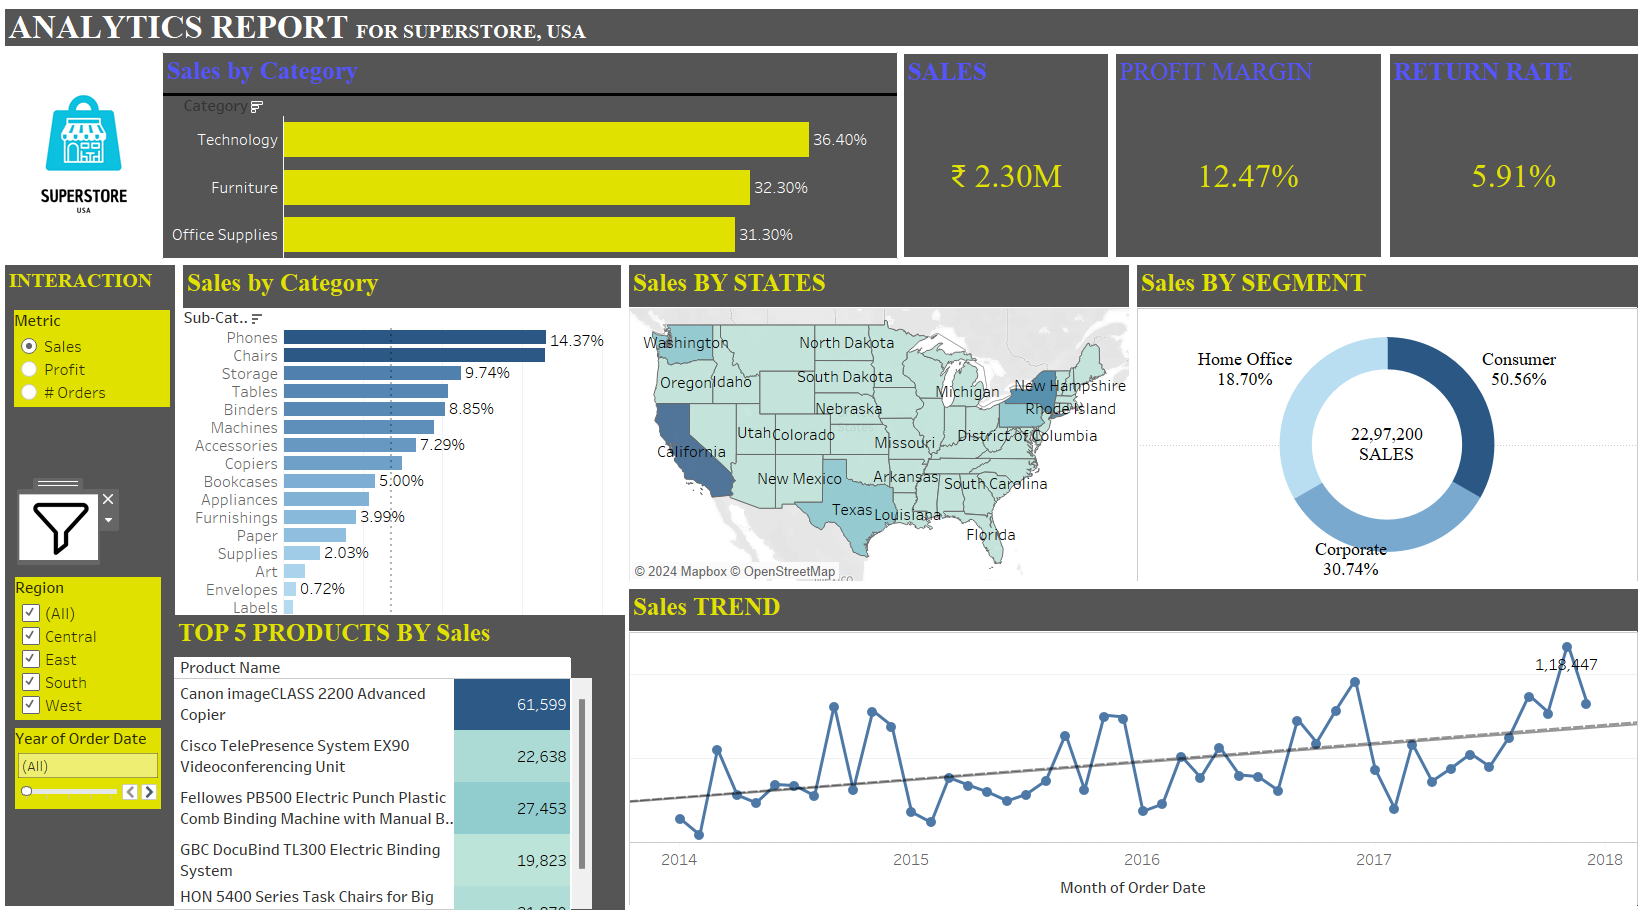

The page's visual inventory and layout, read from the dashboard file:
{"tool":"tableau","page":{"name":"Dashboard 1","canvas":[1000,1000],"units":"permille","ordinal":0},"visuals":[{"type":"title","box":[4.8,8.7,990.3,48.9]},{"type":"image","param":"Image/Screenshot 2024-12-05 122448.png","box":[4.8,57.6,95.9,229]},{"type":"worksheet","title":"SALES BY CATEGORY","mark":"Automatic","rows":["Category"],"cols":["Calculation_617274645138530307"],"box":[100.7,57.6,446.6,229]},{"type":"worksheet","title":"SALES","mark":"Automatic","box":[547.3,57.6,128.3,229]},{"type":"worksheet","title":"PROFIT MARGIN","mark":"Automatic","box":[675.6,57.6,164.9,229]},{"type":"worksheet","title":"RETURN RATE","mark":"Automatic","box":[840.5,57.6,154.7,229]},{"type":"worksheet","title":"INTERACTION","mark":"Automatic","box":[4.8,286.6,107.3,704.8]},{"type":"worksheet","title":"SALES BY SUB-CATEGORY","mark":"Automatic","rows":["Sub-Category"],"cols":["Calculation_617274645138530307"],"box":[112.2,286.6,269.2,409.6]},{"type":"worksheet","title":"SALES BY STATES","mark":"Multipolygon","box":[381.3,286.6,306.9,352.4]},{"type":"worksheet","title":"SALES BY SEGMENT","mark":"Pie","rows":["Calculation_1362057433868435462","Calculation_1362057433868435462"],"box":[688.2,286.6,306.9,352.4]},{"type":"parameter","param":"[Parameters].[Parameter 2]","box":[12.6,339.9,94.1,105.3]},{"type":"dashboard-object","box":[15.6,536.4,48,78.2]},{"type":"filter","title":"SALES","param":"[federated.1v6m5oi1no1wxq0zngc4z0cfc1xt].[none:Region:nk]","box":[10.8,625.4,92.9,164]},{"type":"worksheet","title":"SALES TREND","mark":"Automatic","rows":["Calculation_617274645138530307","Calculation_617274645138530307"],"cols":["Order Date"],"box":[381.3,638.9,613.8,352.4]},{"type":"worksheet","title":"TOP 5 PRODUCTS BY SALES","mark":"Square","rows":["Product Name"],"box":[109.1,671,272.2,320.3]},{"type":"filter","title":"SALES","param":"[federated.1v6m5oi1no1wxq0zngc4z0cfc1xt].[yr:Order Date:ok]","box":[10.8,789.4,92.9,96.6]}]}

Visuals, with their boxes on the dashboard's canvas, which has no fixed pixel size, in thousandths of its width and height (x1, y1, x2, y2). These are canvas units, not pixel positions in the 1650x912 screenshot, which may show the page scaled, cropped or inside an application window:
title: Rect(5, 9, 995, 58)
image: Rect(5, 58, 101, 287)
"SALES BY CATEGORY" worksheet: Rect(101, 58, 547, 287)
"SALES" worksheet: Rect(547, 58, 676, 287)
"PROFIT MARGIN" worksheet: Rect(676, 58, 840, 287)
"RETURN RATE" worksheet: Rect(840, 58, 995, 287)
"INTERACTION" worksheet: Rect(5, 287, 112, 991)
"SALES BY SUB-CATEGORY" worksheet: Rect(112, 287, 381, 696)
"SALES BY STATES" worksheet (Multipolygon marks): Rect(381, 287, 688, 639)
"SALES BY SEGMENT" worksheet (Pie marks): Rect(688, 287, 995, 639)
parameter: Rect(13, 340, 107, 445)
dashboard-object: Rect(16, 536, 64, 615)
"SALES" filter: Rect(11, 625, 104, 789)
"SALES TREND" worksheet: Rect(381, 639, 995, 991)
"TOP 5 PRODUCTS BY SALES" worksheet (Square marks): Rect(109, 671, 381, 991)
"SALES" filter: Rect(11, 789, 104, 886)
